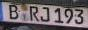1: (53, 8, 64, 24)
3: (74, 8, 84, 24)
9: (64, 8, 73, 25)
B: (8, 4, 19, 20)
J: (41, 6, 51, 22)
R: (29, 5, 40, 22)
